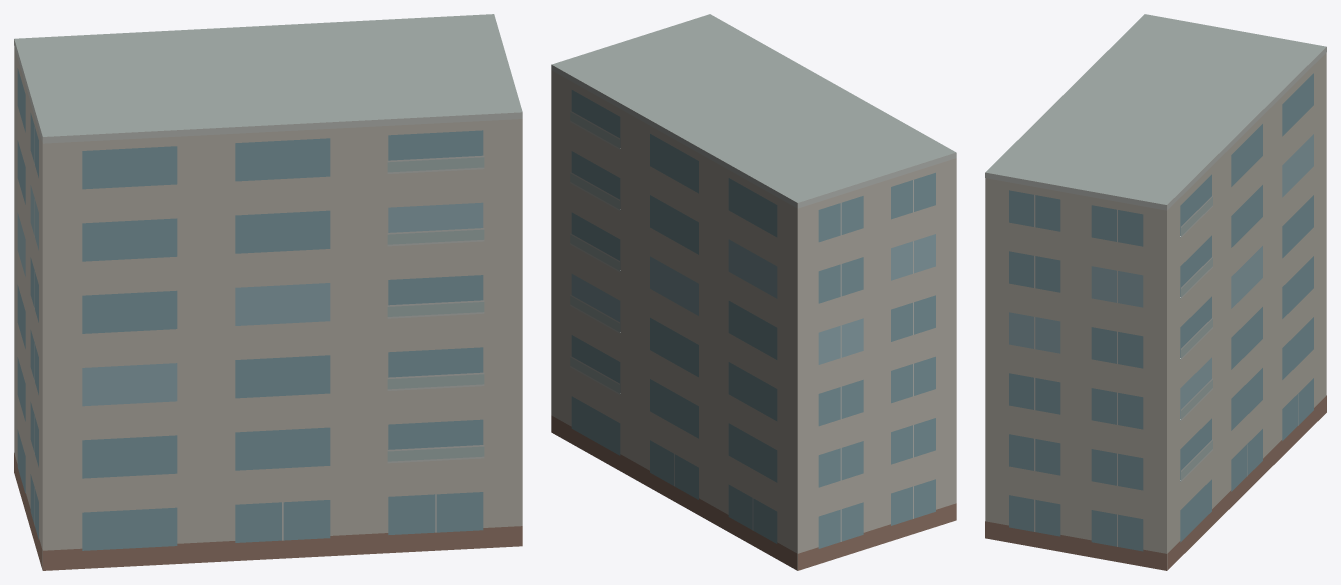
Rendered from survey-upis-32977625.glb.
3 views of the same model, side by side, from view 1: azimuth 30°, elevation 25°; view 2: azimuth 150°, elevation 25°; view 3: azimuth 270°, elevation 25° (orthographic). The views are drawn at different scales.
Parts seen in each view (by area): view 1: survey-upis-32977625.tmp; view 2: survey-upis-32977625.tmp; view 3: survey-upis-32977625.tmp.
Part boxes in pixels (x1,y1,x2,y2): survey-upis-32977625.tmp: (14,14,522,570); survey-upis-32977625.tmp: (551,14,956,570); survey-upis-32977625.tmp: (985,14,1326,570).
Size of the model in its own units: 18.05 by 16.1 by 13.64.
